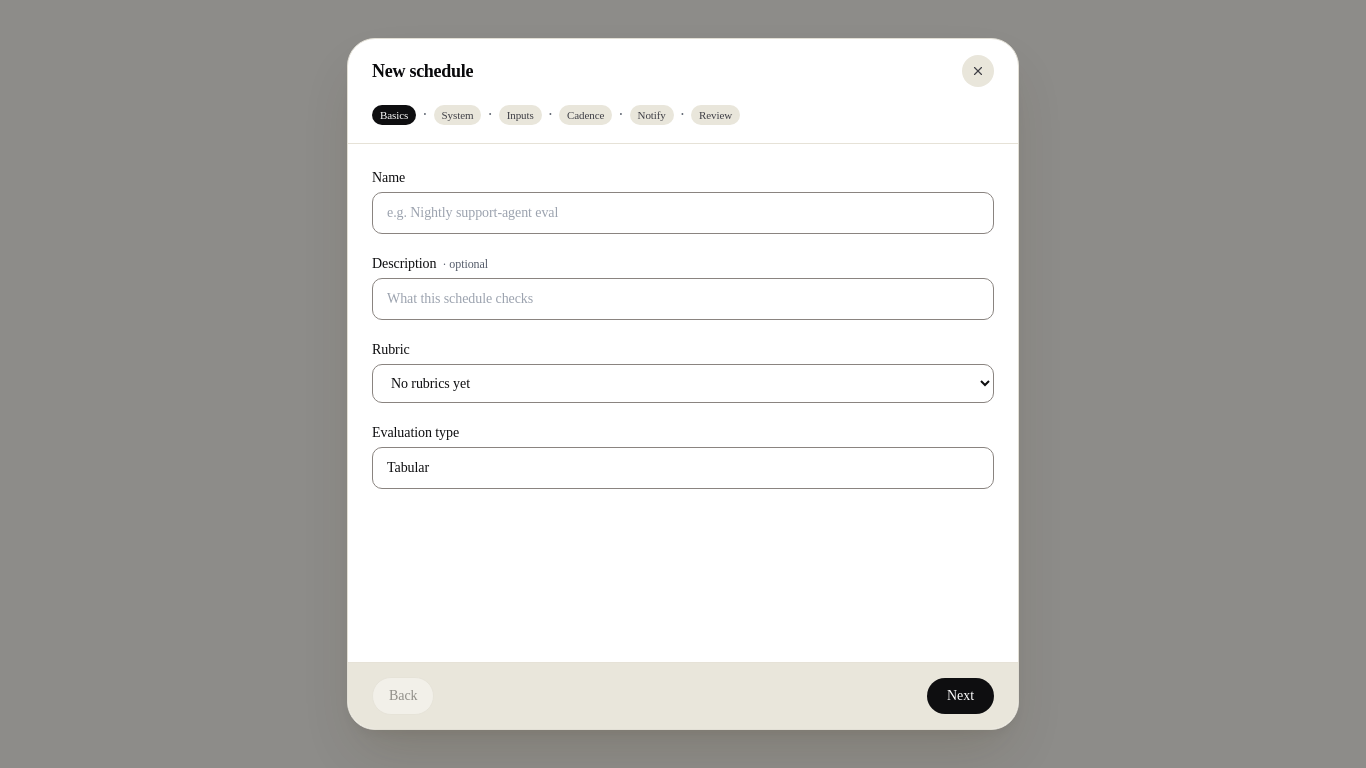
it: ScheduleWizard — Basics validation (#390) › requires a rubric to be selected when the Team has none
In the field labelled "Name": (683, 213) [372,192,994,234], type "Nightly eval"
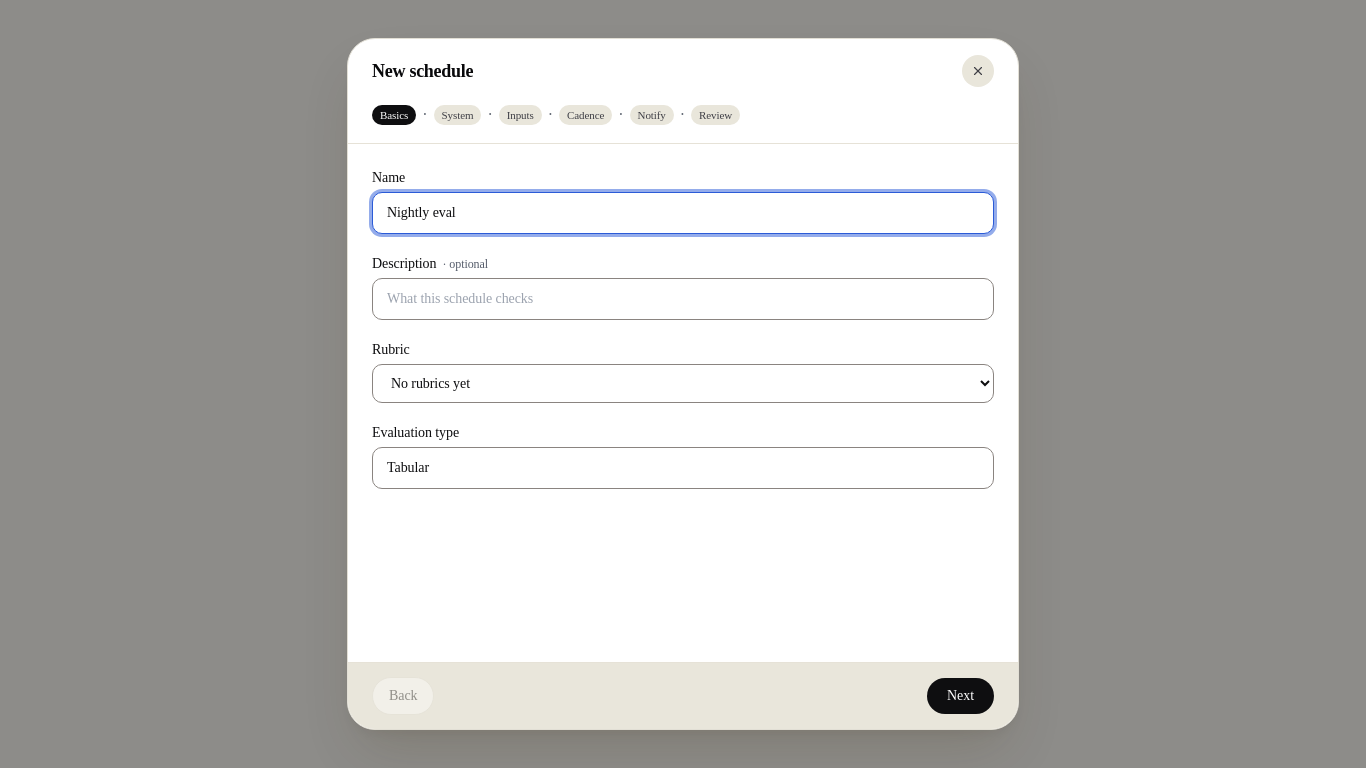
Click the button "Next": (961, 696) [927,678,994,714]
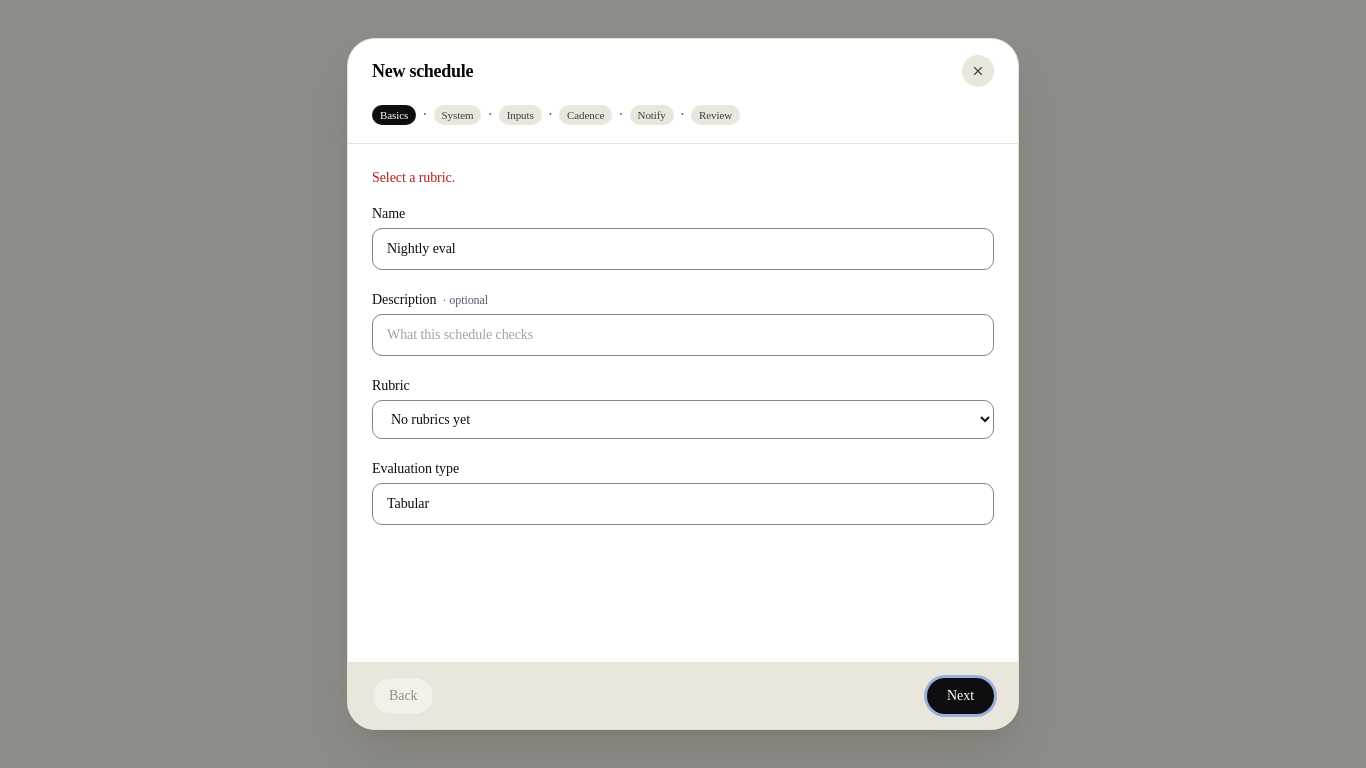
Expected: the message reads "Select a rubric.", [372,170,455,185]
